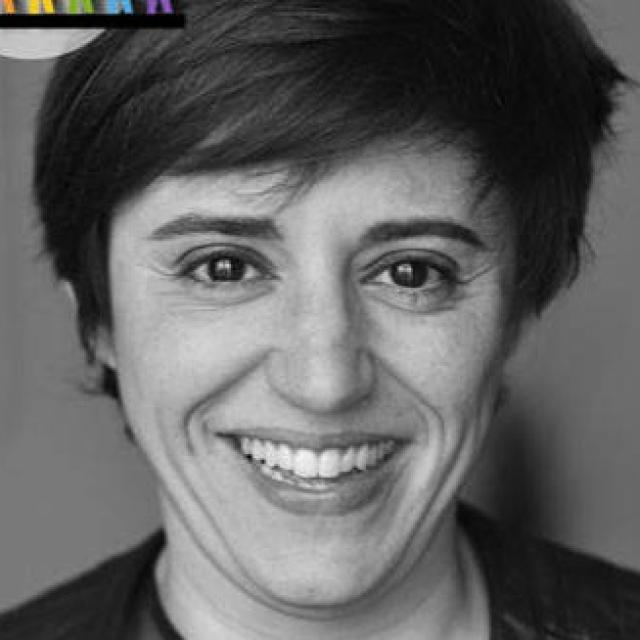Normal: (106, 104, 525, 620)
